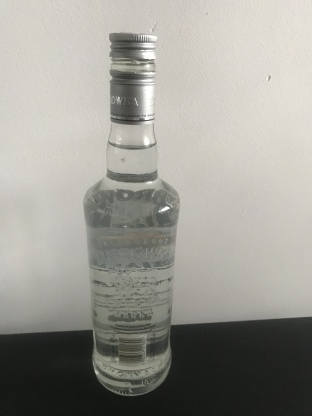nakretka: (107, 31, 157, 124)
